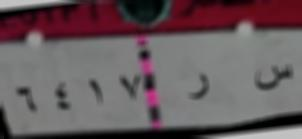1: (82, 70, 108, 110)
4: (50, 74, 78, 118)
6: (13, 80, 44, 116)
7: (116, 70, 144, 105)
raa: (183, 66, 220, 106)
seen: (247, 58, 298, 101)
